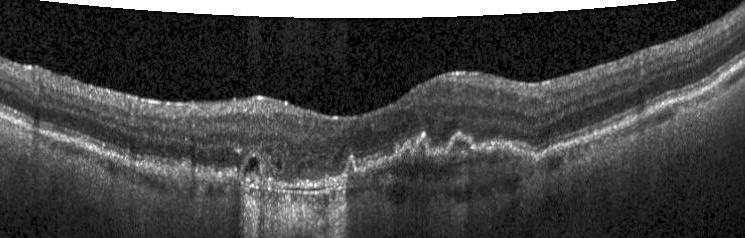intraretinal_cyst: (271, 159, 282, 170)
subretinal_hyperreflective_material: (330, 132, 538, 188), (236, 150, 277, 184)
